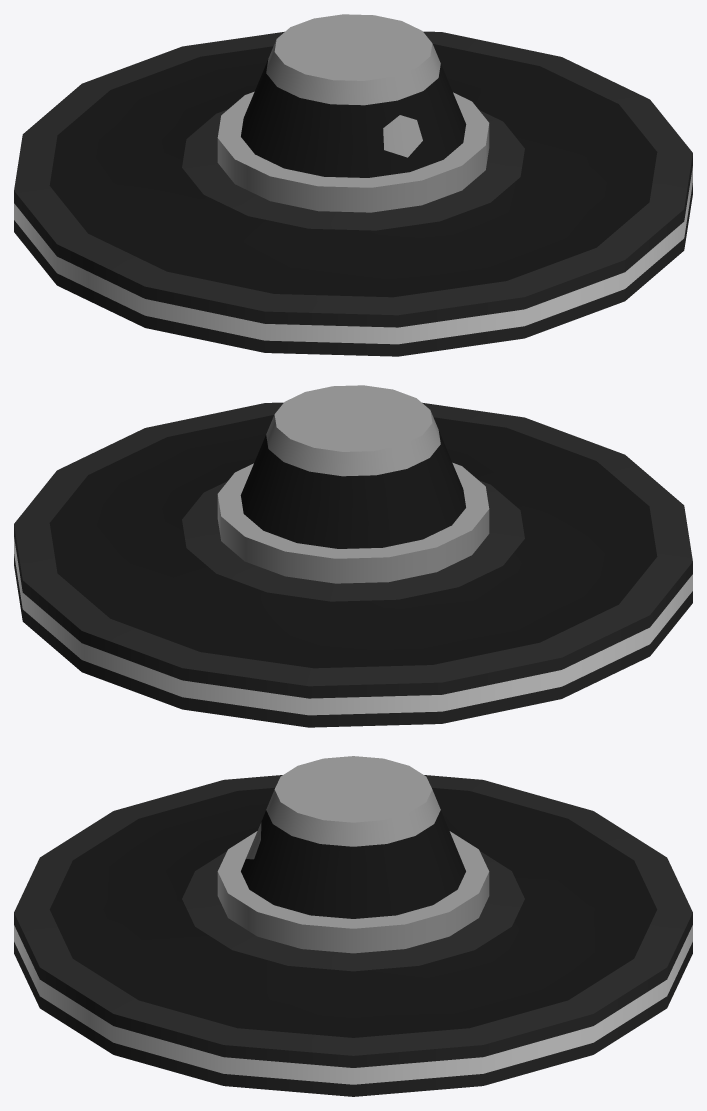
The model's file is drone.dae.
3 renders of one model, top to bottom at view 1: azimuth 30°, elevation 25°; view 2: azimuth 150°, elevation 25°; view 3: azimuth 270°, elevation 25°, orthographic.
Visible parts, largest first — view 1: Circle; view 2: Circle; view 3: Circle.
Boxes of the visible parts, <box> form: Circle: <box>14,14,692,356</box>; Circle: <box>14,385,692,727</box>; Circle: <box>14,756,692,1096</box>.
Size of the model in its own units: 0.75 by 0.75 by 0.26.
4 materials, 2 textured.
